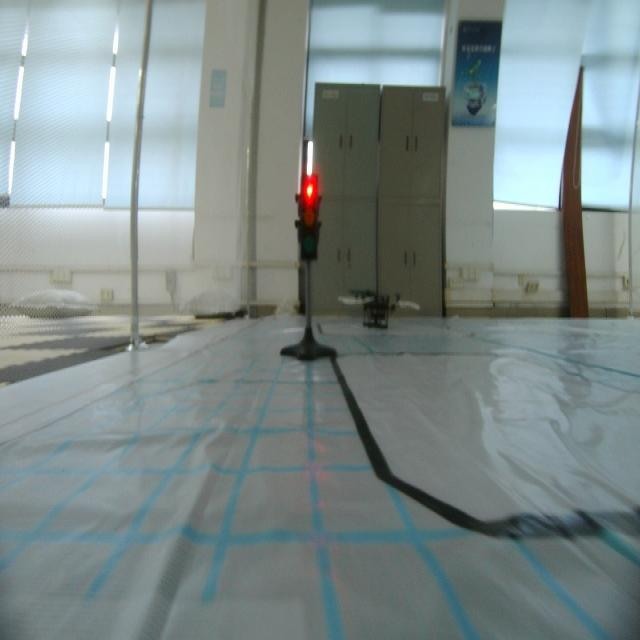red: (296, 175, 322, 268)
